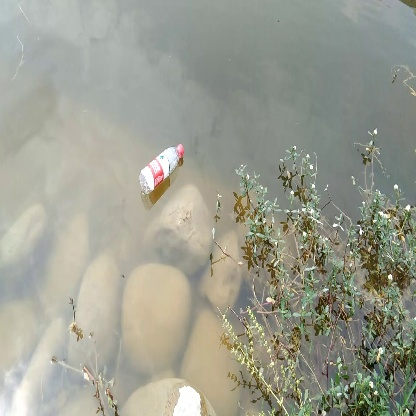bottle: (134, 142, 187, 198)
